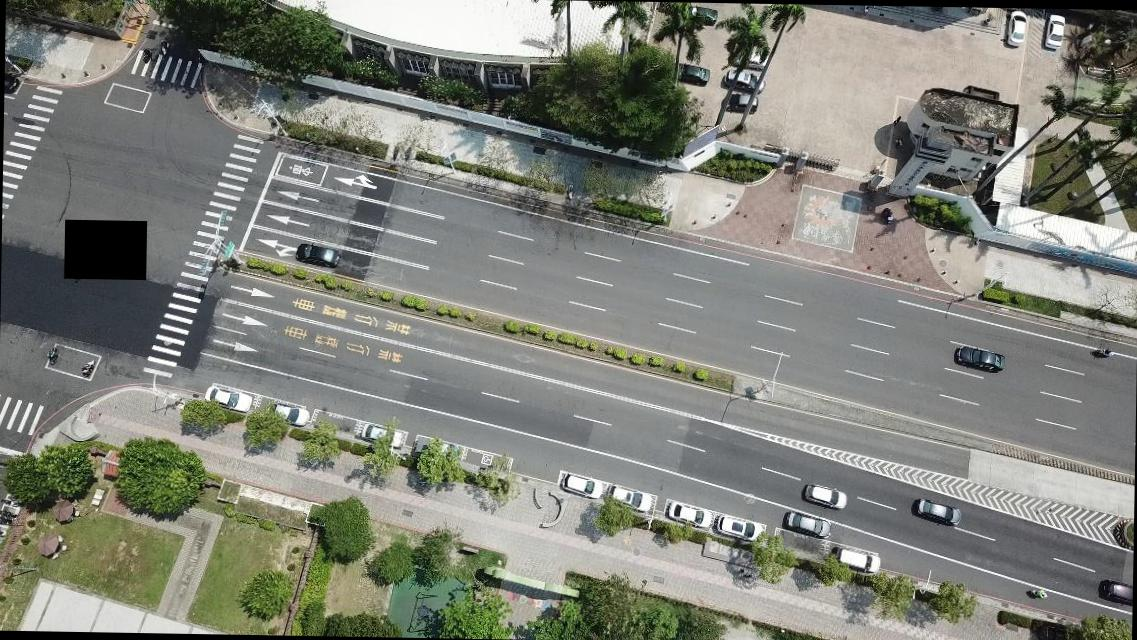vehicle: (954, 344, 1000, 374), (204, 386, 252, 411), (916, 500, 960, 527), (723, 68, 766, 95), (1099, 576, 1133, 610), (296, 242, 338, 269), (714, 516, 760, 540), (836, 548, 877, 574), (784, 510, 827, 534), (666, 502, 709, 526), (610, 487, 651, 512), (561, 473, 601, 498), (672, 60, 710, 84), (803, 486, 846, 507), (359, 424, 398, 447), (728, 48, 768, 70), (1002, 10, 1026, 46), (1042, 13, 1064, 50), (722, 92, 759, 114), (680, 4, 720, 24)
